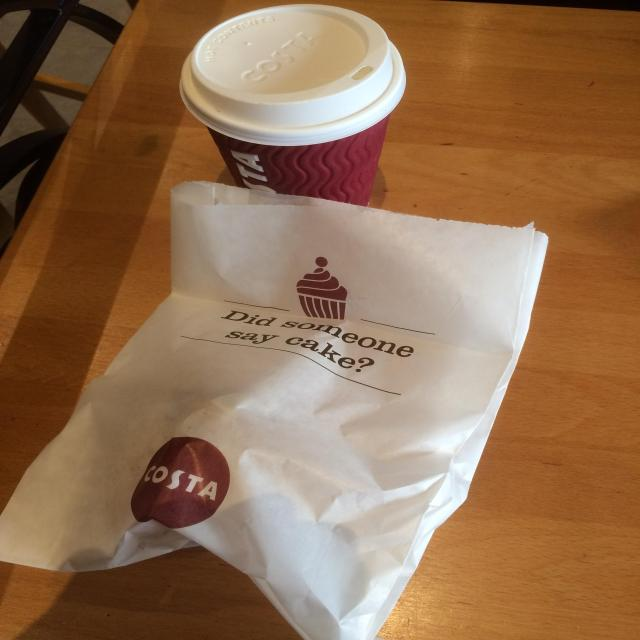Paper bag: (0, 181, 548, 639)
Paper cup: (179, 4, 407, 206)
Plastic lid: (179, 4, 405, 146)
